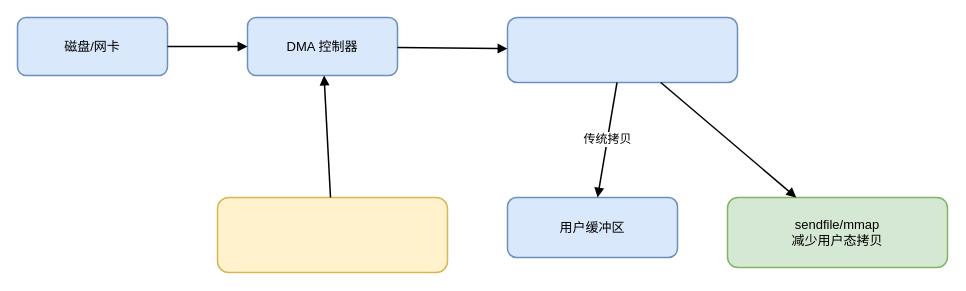
This 966x291 diagram has some shape labels left out. Here are the shapes that lost their labels. From the top down, the centre of each, then its label:
At (x=622, y=49): "内核缓冲区 页缓存/socket buffer".
At (x=332, y=234): "CPU 配置 DMA 处理中断/协议栈".
